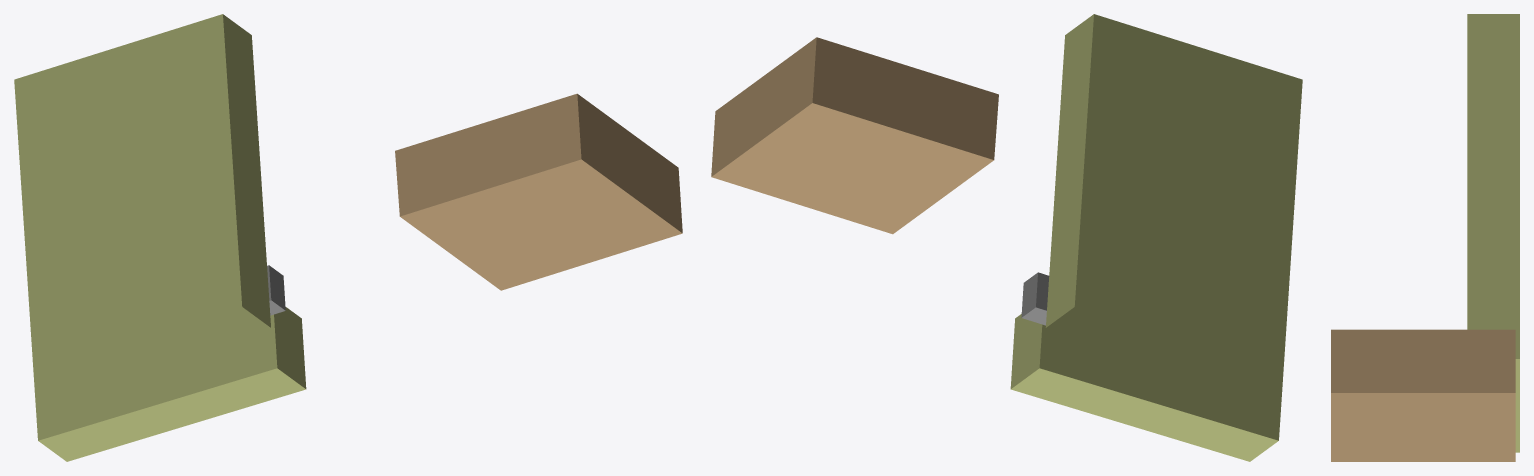
3 renders of one model, left to right at view 1: azimuth 30°, elevation 25°; view 2: azimuth 150°, elevation 25°; view 3: azimuth 270°, elevation 25°, orthographic. The views are drawn at different scales.
Visible parts, largest first — view 1: 0_3_2_3_2_1_2_1; view 2: 0_3_2_3_2_1_2_1; view 3: 0_3_2_3_2_1_2_1.
Part boxes in pixels (left/top/right/bottom): 0_3_2_3_2_1_2_1: left=14, top=14, right=682, bottom=461; 0_3_2_3_2_1_2_1: left=711, top=14, right=1302, bottom=461; 0_3_2_3_2_1_2_1: left=1331, top=14, right=1519, bottom=461.
Size of the model in its own units: 67.63 by 43.66 by 21.49.
